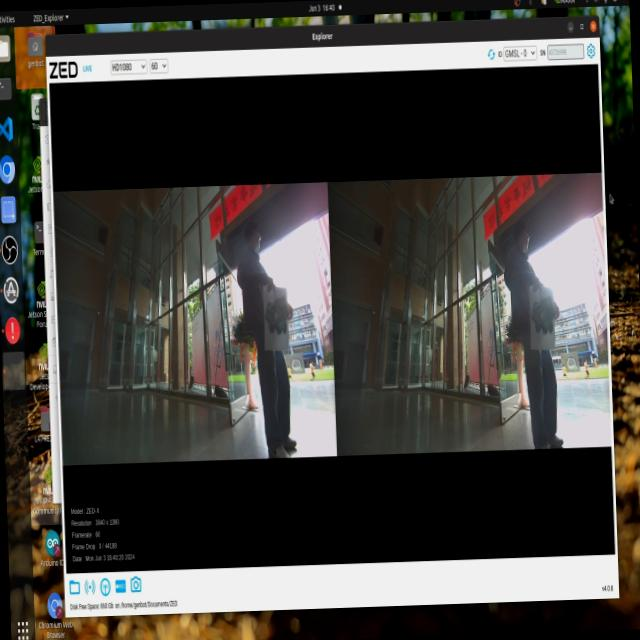green: (526, 288, 562, 347), (262, 290, 289, 334)
